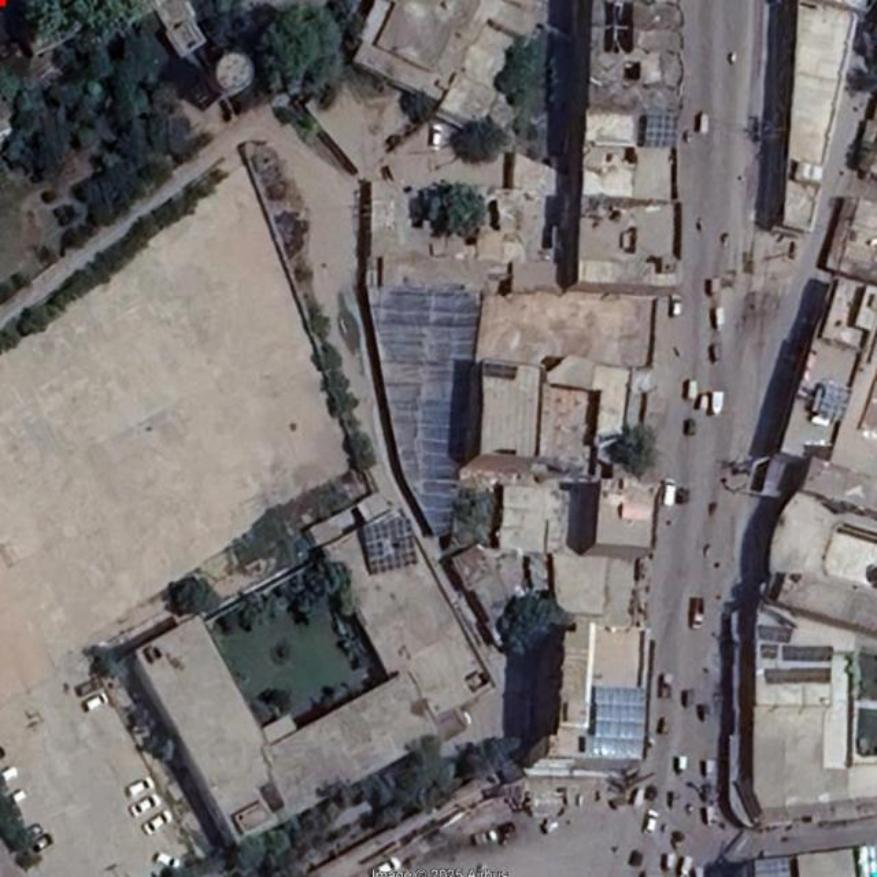Solarpanel: (594, 689, 644, 762), (363, 518, 417, 576), (816, 380, 852, 423), (644, 115, 679, 146), (766, 670, 830, 683), (756, 856, 791, 876), (786, 647, 832, 662), (759, 625, 793, 645), (762, 645, 779, 659)
